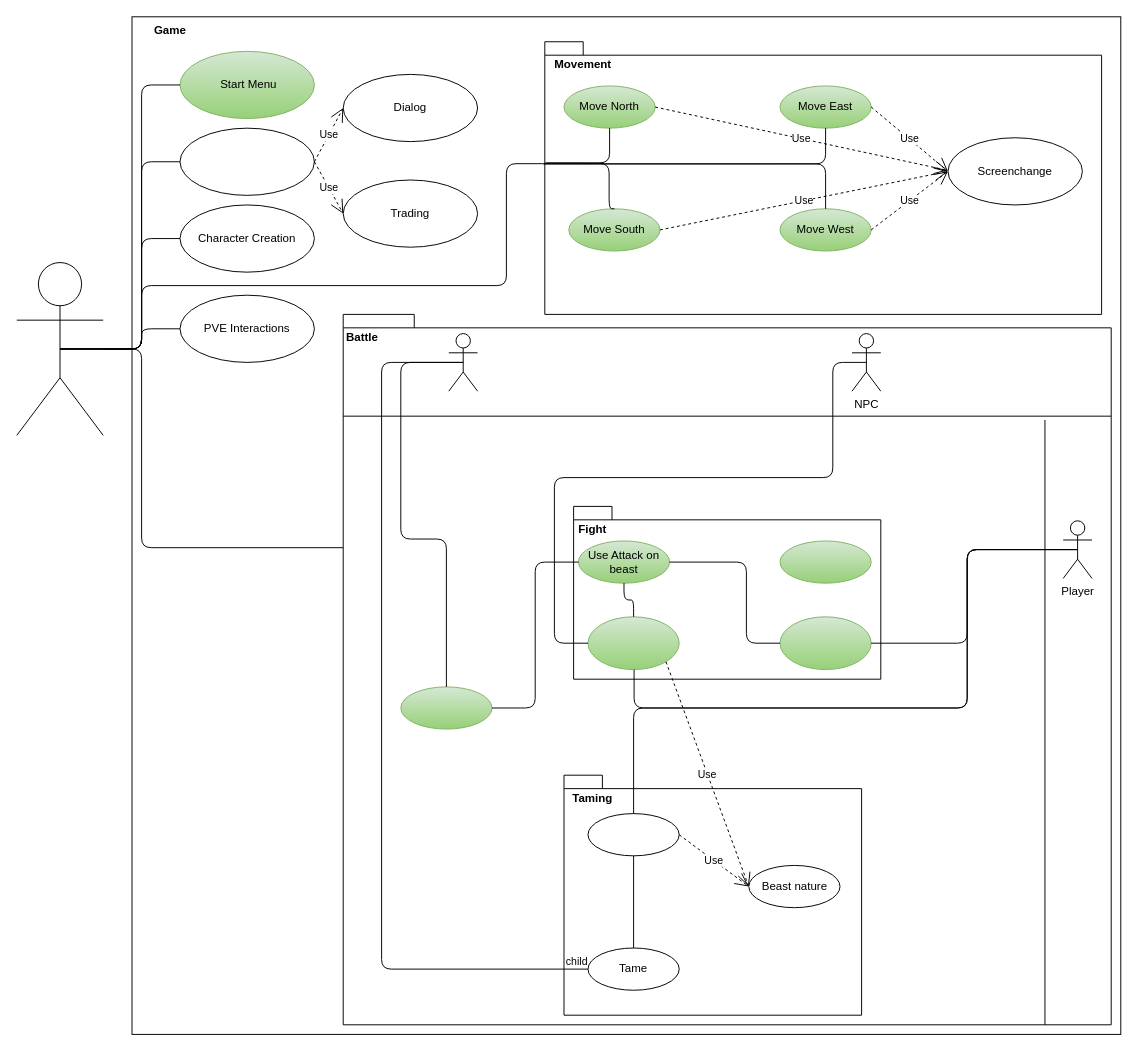
This 1138x1051 diagram has some shape labels left out. Each missing label, with the centre of its shape:
"Actor" goes at point (59, 348).
"Beast attacks" goes at point (633, 643).
"Catch & Collect" goes at point (446, 707).
"Interact" goes at point (246, 161).
"Player Attack" goes at point (825, 643).
"Taming Action" goes at point (633, 834).
"Use Attack on NPC" goes at point (825, 561).
"wild littleBeasts" goes at point (463, 362).
